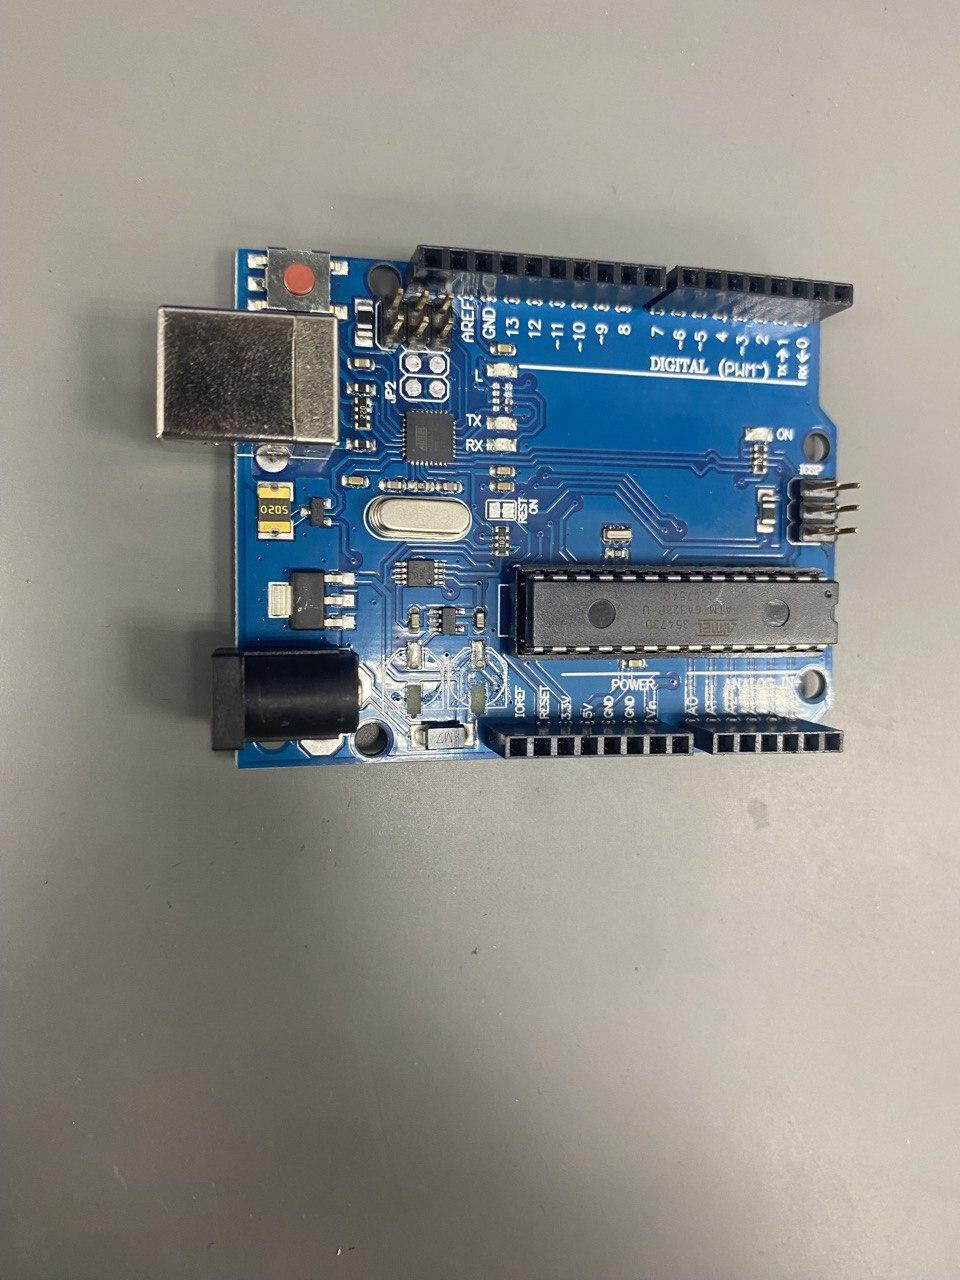ATmega328 chip: (511, 562, 839, 660)
Arduino board: (154, 244, 860, 771)
USB: (155, 302, 339, 461)
pins: (402, 243, 667, 309), (645, 265, 852, 326), (482, 718, 694, 759), (683, 719, 843, 755)
resistor: (354, 397, 372, 431), (493, 524, 511, 557), (752, 444, 767, 478)
